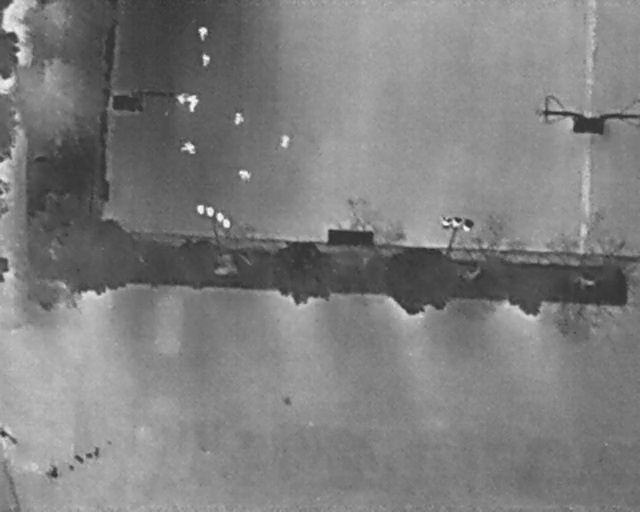Person: (176, 136, 199, 161), (276, 131, 292, 151), (185, 92, 199, 114), (237, 167, 252, 182), (233, 110, 245, 126), (198, 26, 208, 41), (201, 53, 210, 68), (174, 93, 186, 104)
